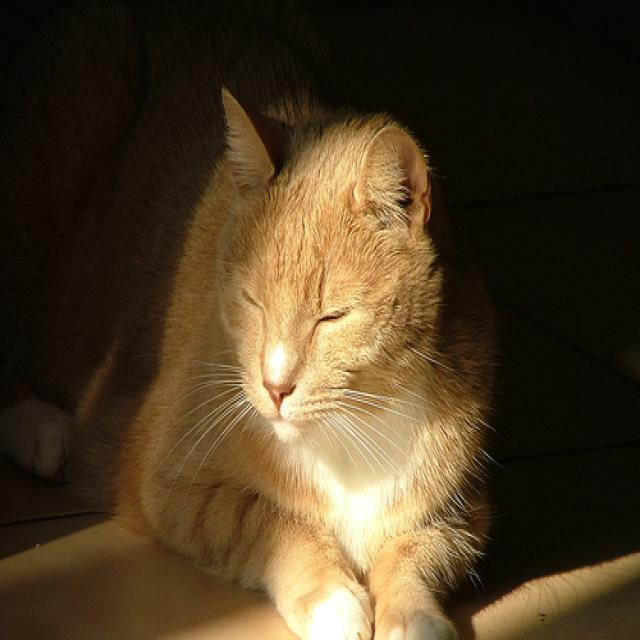left eye: (2, 5, 500, 637), (315, 302, 351, 326)
